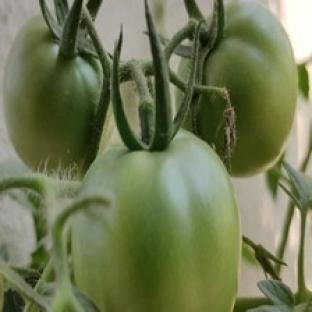Tomato: (72, 133, 240, 311), (3, 17, 103, 169)
